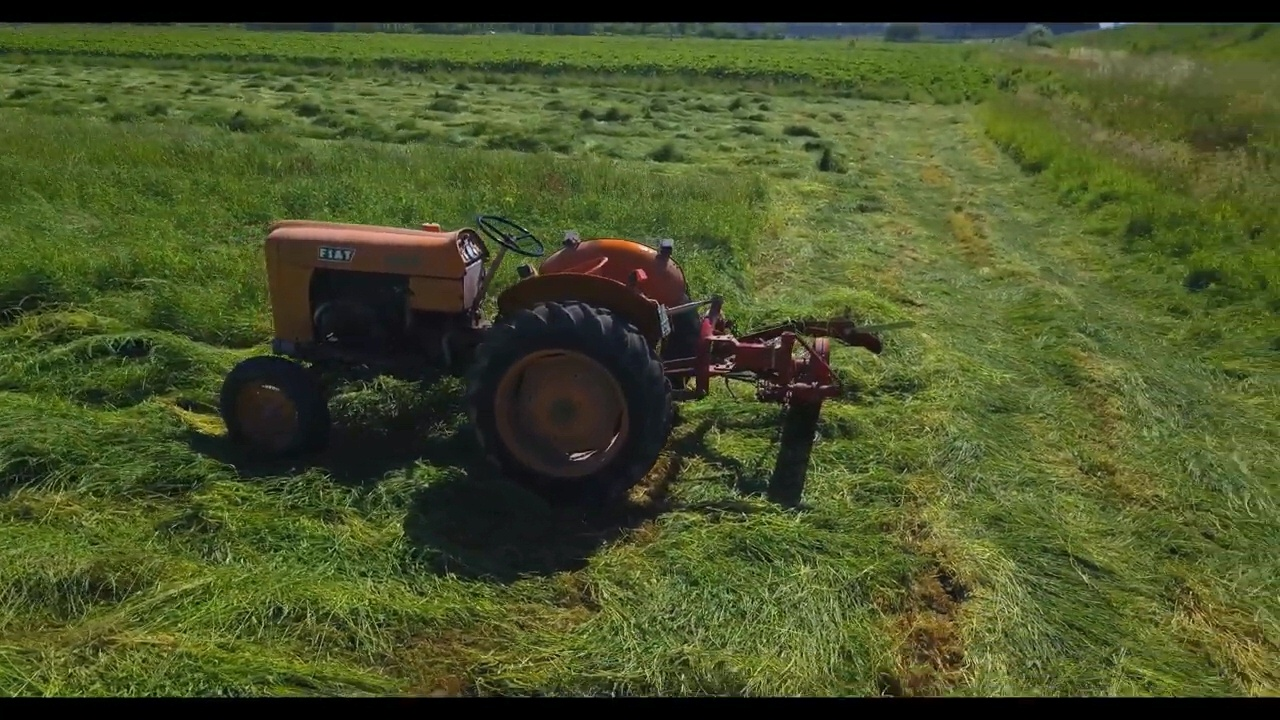traktor: (217, 215, 715, 510)
